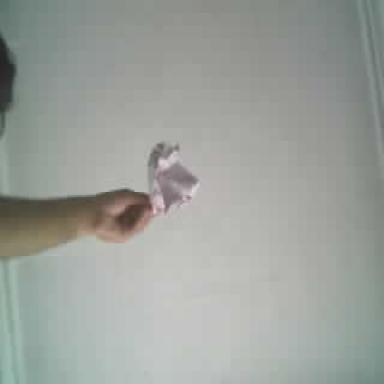paper: (149, 142, 199, 213)
